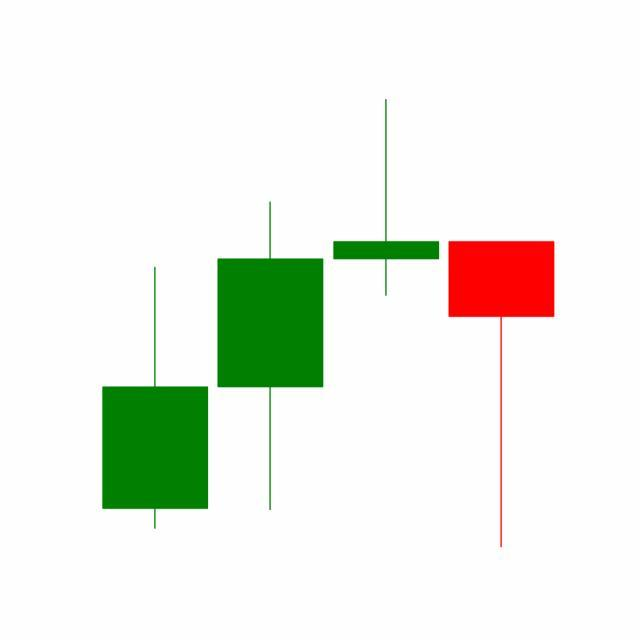Gravestone Doji: (329, 97, 445, 299)
